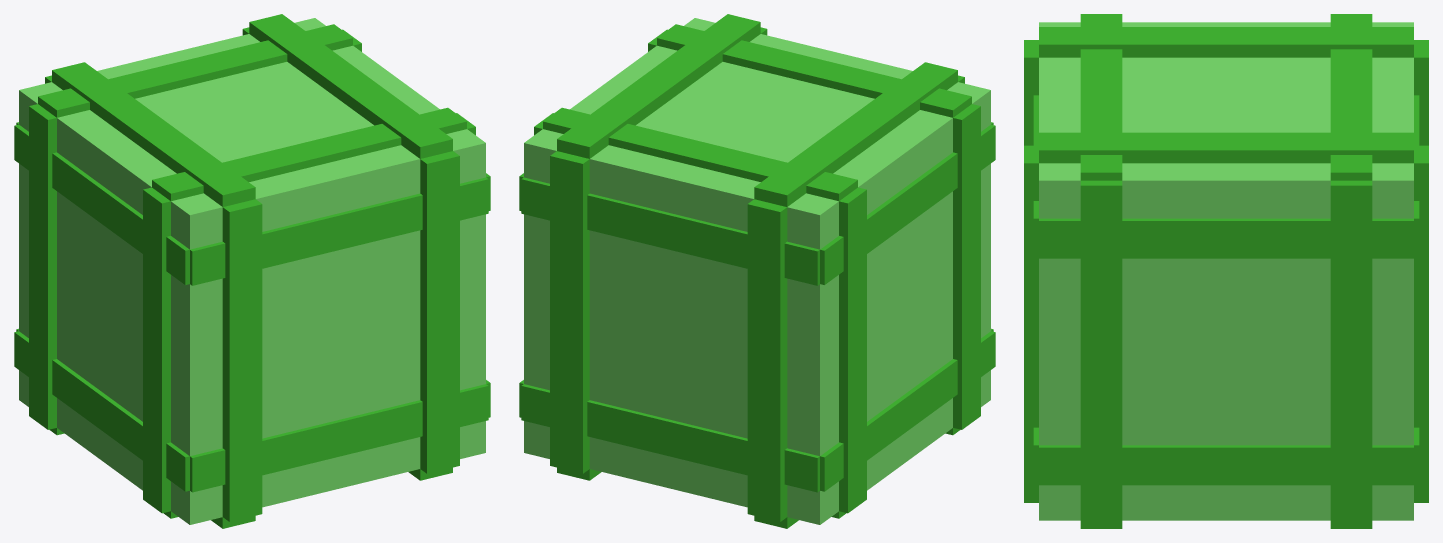
File: Package_1.fbx
The picture shows the model from 3 angles, left to right: view 1: azimuth 30°, elevation 25°; view 2: azimuth 150°, elevation 25°; view 3: azimuth 270°, elevation 25°; orthographic projection. The views are drawn at different scales.
Parts seen in each view (by area): view 1: pCube7; view 2: pCube7; view 3: pCube7.
Boxes of the visible parts, left/top/right/bottom form: pCube7: left=14, top=14, right=490, bottom=528; pCube7: left=519, top=14, right=995, bottom=528; pCube7: left=1024, top=14, right=1428, bottom=528.
Bounding box in the file's own units: 2.12 × 2.15 × 2.16.
